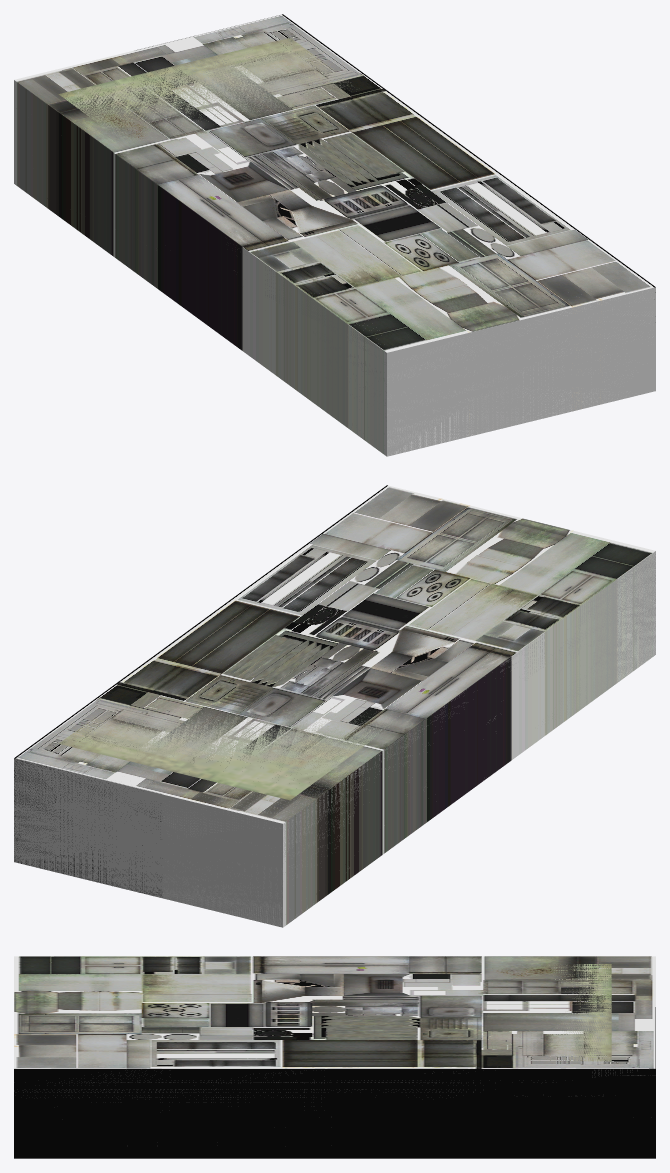
File: stove_professional_vent.DAE
The picture shows the model from 3 angles, top to bottom: view 1: azimuth 30°, elevation 25°; view 2: azimuth 150°, elevation 25°; view 3: azimuth 270°, elevation 25°; orthographic projection. The views are drawn at different scales.
Parts seen in each view (by area): view 1: colbox-1, bounds, stove_professional_vent100; view 2: colbox-1, bounds, stove_professional_vent100; view 3: colbox-1, stove_professional_vent100.
Boxes of the visible parts, x1=… form: colbox-1: x1=14, y1=14, x2=655, y2=456; bounds: x1=234, y1=249, x2=655, y2=456; stove_professional_vent100: x1=58, y1=37, x2=351, y2=137; colbox-1: x1=14, y1=485, x2=655, y2=927; bounds: x1=14, y1=551, x2=655, y2=927; stove_professional_vent100: x1=58, y1=705, x2=399, y2=800; colbox-1: x1=14, y1=956, x2=655, y2=1158; stove_professional_vent100: x1=549, y1=964, x2=611, y2=1061.
Bounding box in the file's own units: 108 × 259 × 39.83.
